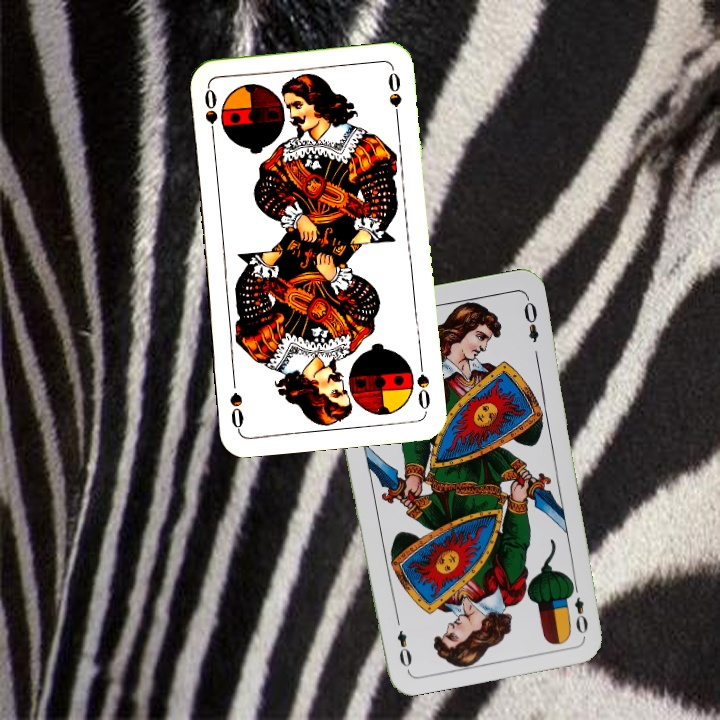EO: (565, 579, 591, 637)
SO: (407, 355, 433, 414), (200, 84, 220, 143)
